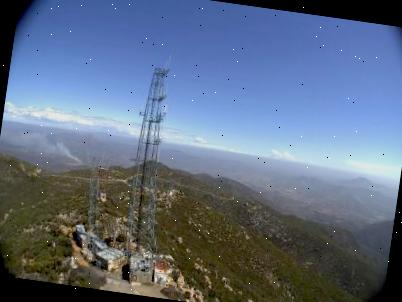smoke: (0, 123, 89, 165)
